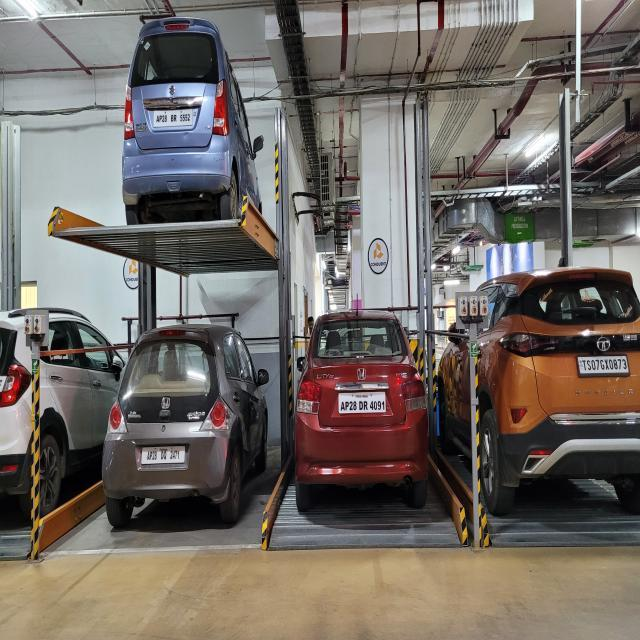car: (459, 292, 640, 551), (100, 15, 262, 248), (290, 325, 454, 550), (119, 325, 252, 525), (0, 312, 94, 524)
